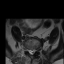CCS_normal: (30, 47, 32, 56)
LFS_stenosis: (35, 47, 37, 53)
LLS_normal: (32, 47, 35, 56)
RFS_normal: (26, 46, 28, 52)
RLS_normal: (28, 47, 30, 56)
